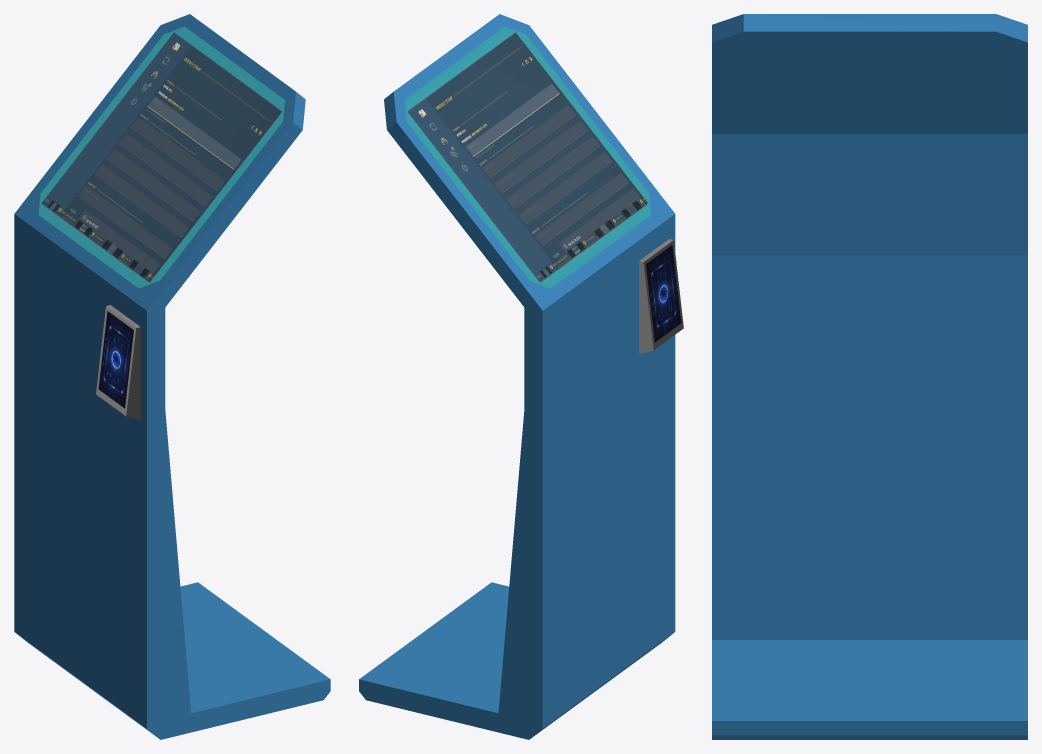
Rendered from pay kiosk.glb.
3 renders of one model, left to right at view 1: azimuth 30°, elevation 25°; view 2: azimuth 150°, elevation 25°; view 3: azimuth 270°, elevation 25°, orthographic. The views are drawn at different scales.
Visible parts, largest first — view 1: pay kiosk; view 2: pay kiosk; view 3: pay kiosk.
Boxes of the visible parts, x1,y1,x2,y2 form: pay kiosk: [14, 14, 330, 739]; pay kiosk: [359, 14, 683, 739]; pay kiosk: [712, 14, 1027, 739].
Size of the model in its own units: 0.432 by 1.25 by 0.5.
4 materials, 2 textured.
